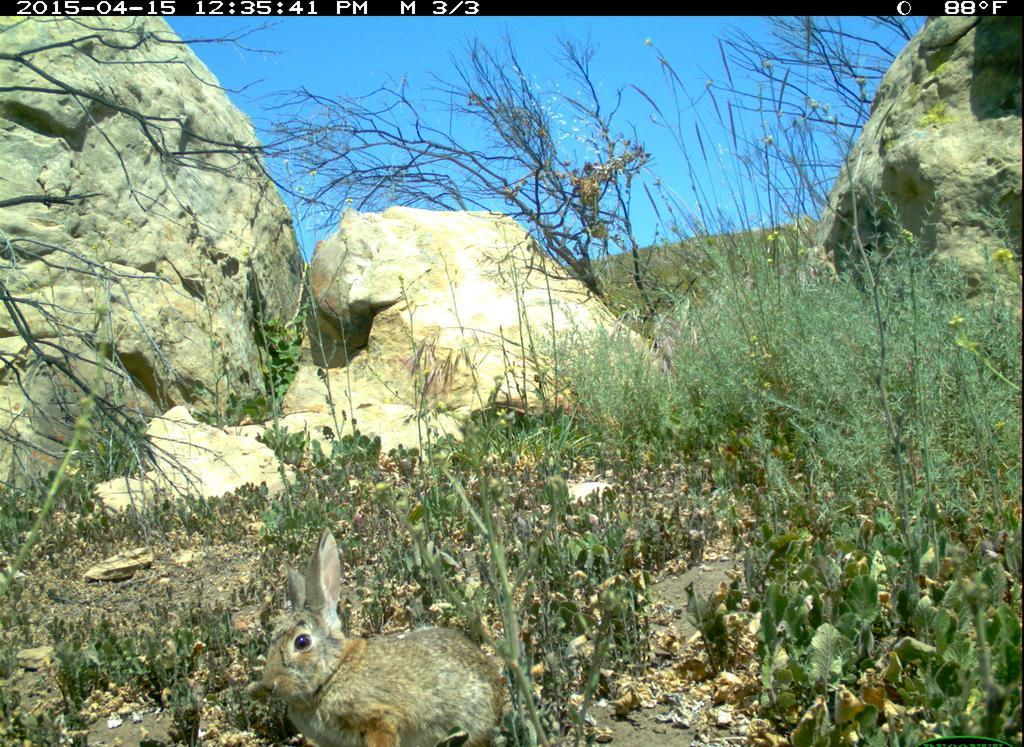rabbit: (238, 518, 514, 747)
